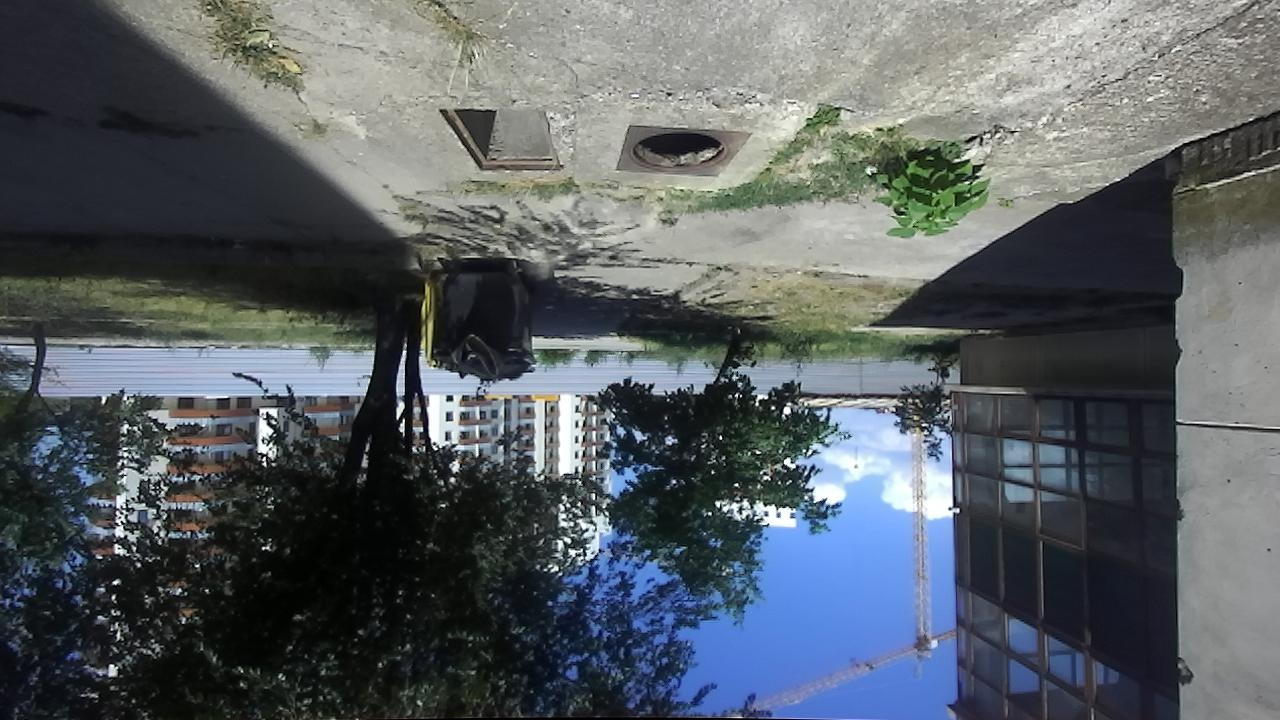drain: (437, 103, 565, 174), (629, 130, 733, 176)
